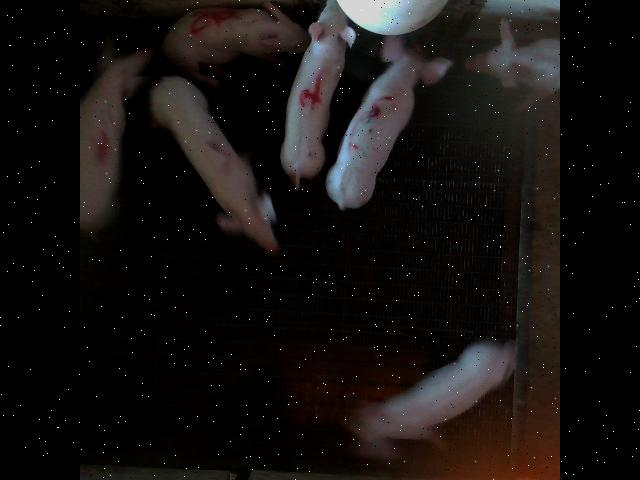pig-1: (80, 46, 153, 231)
pig-2: (149, 75, 279, 255)
pig-3: (328, 35, 452, 209)
pig-4: (280, 0, 356, 189)
pig-5: (161, 1, 309, 88)
